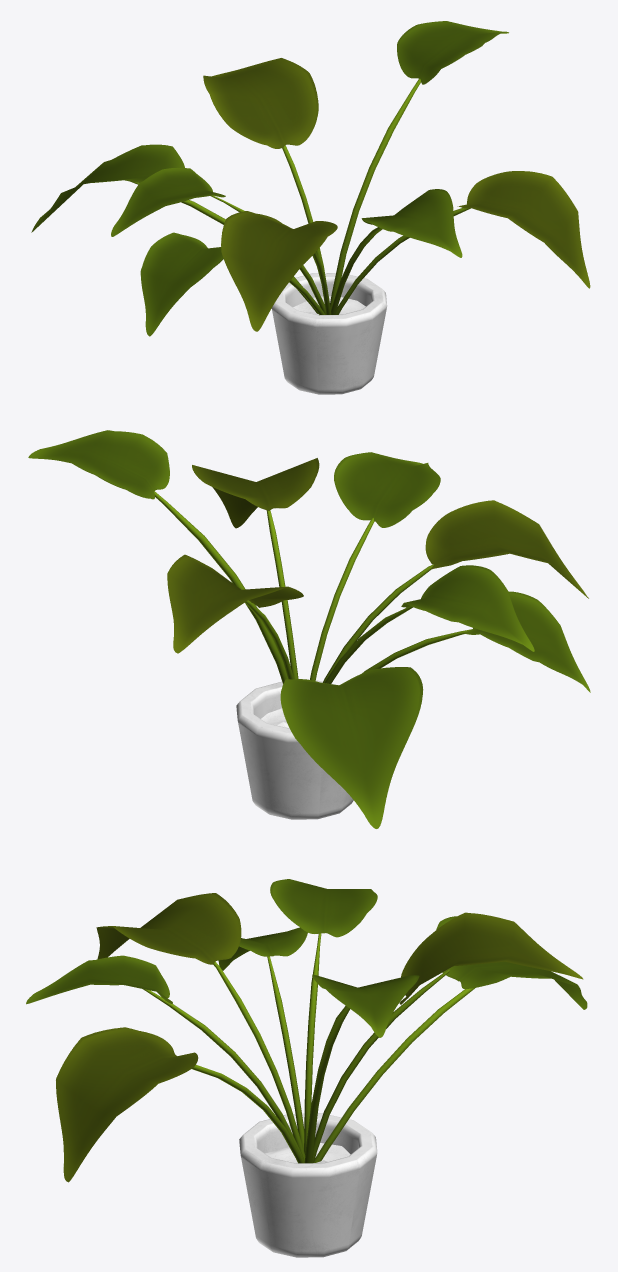
File: Plant_B.fbx
3 views of the same model, one above another, from view 1: azimuth 30°, elevation 25°; view 2: azimuth 150°, elevation 25°; view 3: azimuth 270°, elevation 25° (orthographic). The views are drawn at different scales.
Visible parts, largest first — view 1: U_Plant_B; view 2: U_Plant_B; view 3: U_Plant_B.
Boxes of the visible parts, left/top/right/bottom form: U_Plant_B: left=31, top=21, right=590, bottom=394; U_Plant_B: left=28, top=430, right=590, bottom=828; U_Plant_B: left=26, top=879, right=587, bottom=1257.
Size of the model in its own units: 315 by 196 by 306.
3 materials, 3 textured.
